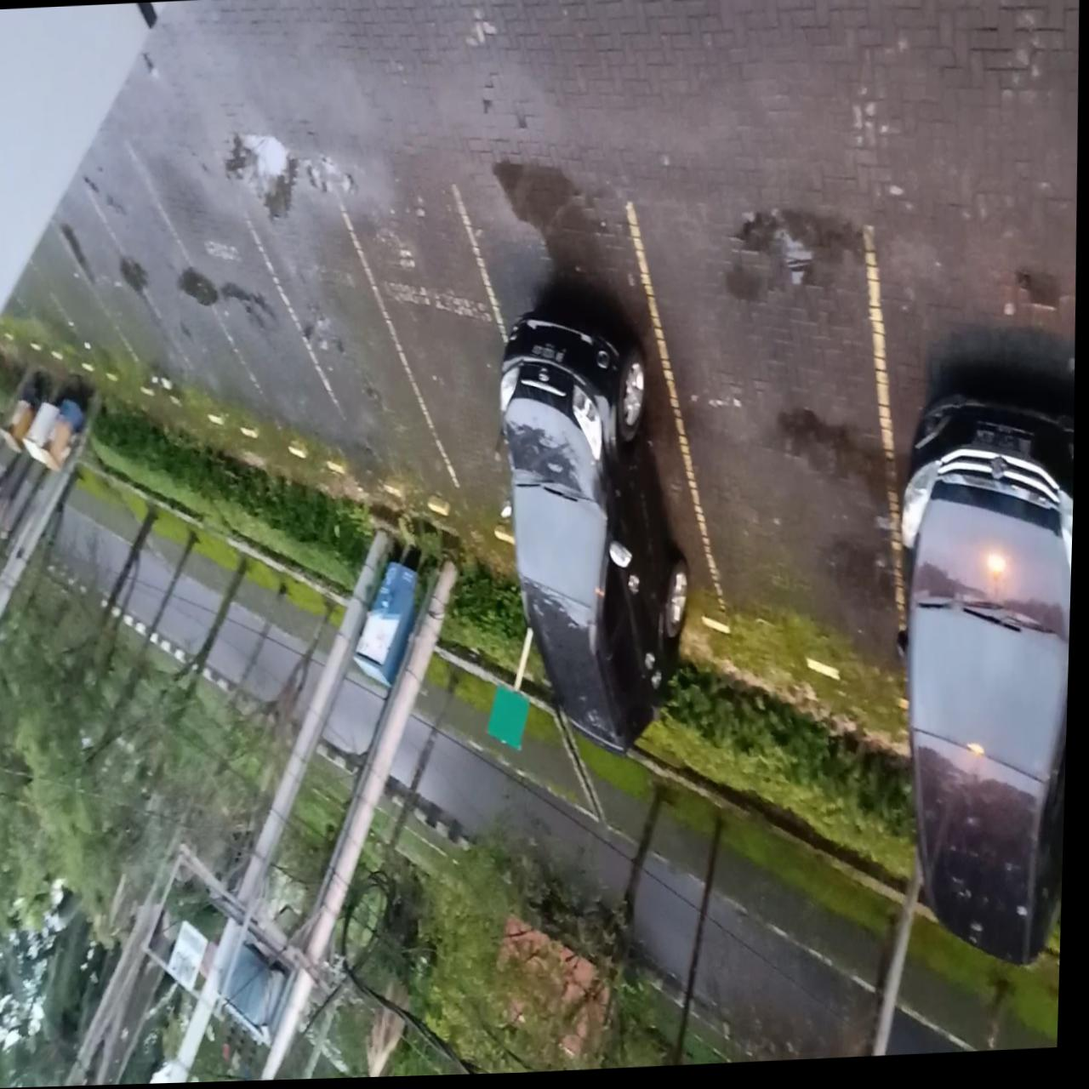cars: (455, 186, 726, 626)
empty: (629, 209, 907, 706), (336, 179, 573, 574), (230, 181, 470, 516), (128, 149, 367, 473), (84, 150, 289, 447)
